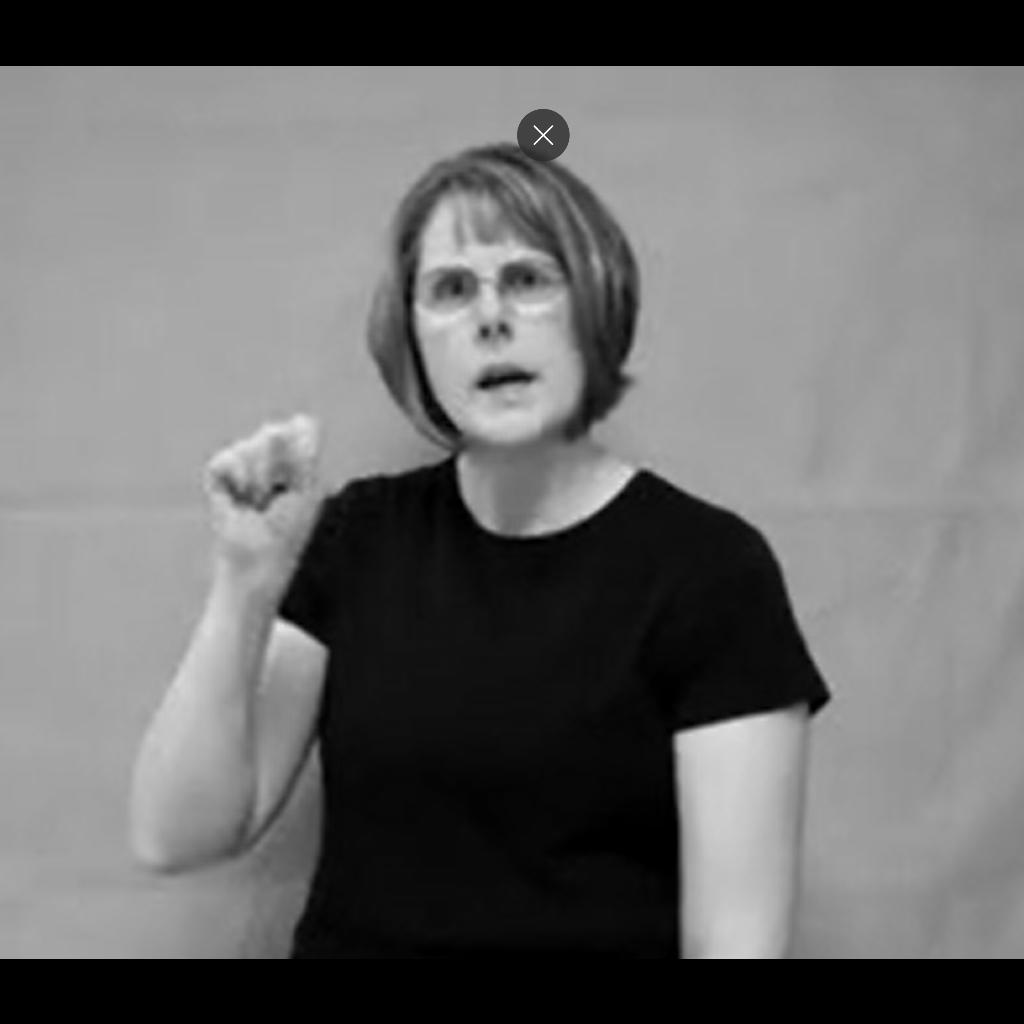yes: (204, 414, 320, 554)
